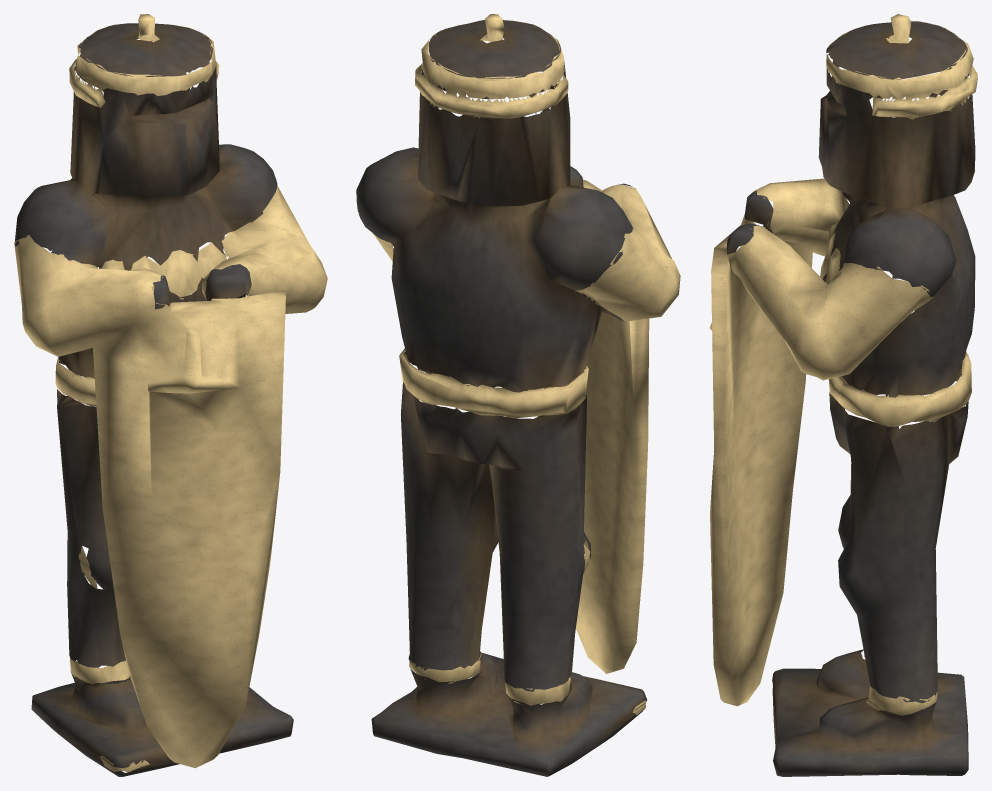
The model's file is Argent_Reliquary_Black_Knight.glb.
The picture shows the model from 3 angles, left to right: view 1: azimuth 30°, elevation 25°; view 2: azimuth 150°, elevation 25°; view 3: azimuth 270°, elevation 25°; orthographic projection. The views are drawn at different scales.
Parts seen in each view (by area): view 1: Argent Reliquary – Black Knight; view 2: Argent Reliquary – Black Knight; view 3: Argent Reliquary – Black Knight.
Boxes of the visible parts, bbox=[...] form: Argent Reliquary – Black Knight: bbox=[14, 14, 327, 776]; Argent Reliquary – Black Knight: bbox=[356, 14, 680, 776]; Argent Reliquary – Black Knight: bbox=[709, 14, 977, 776].
Size of the model in its own units: 0.0321 by 0.0749 by 0.0253.
2 materials, 2 textured.
